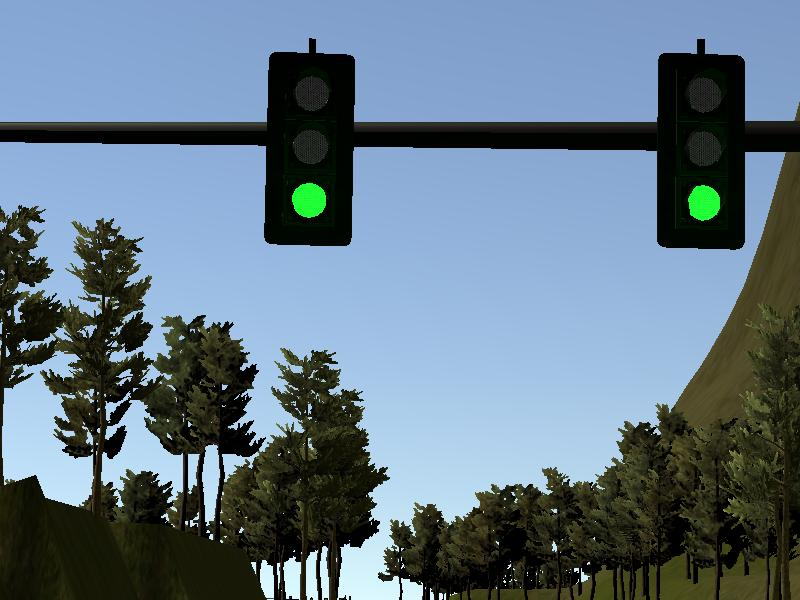not_red: (656, 51, 745, 248), (267, 52, 350, 247)
